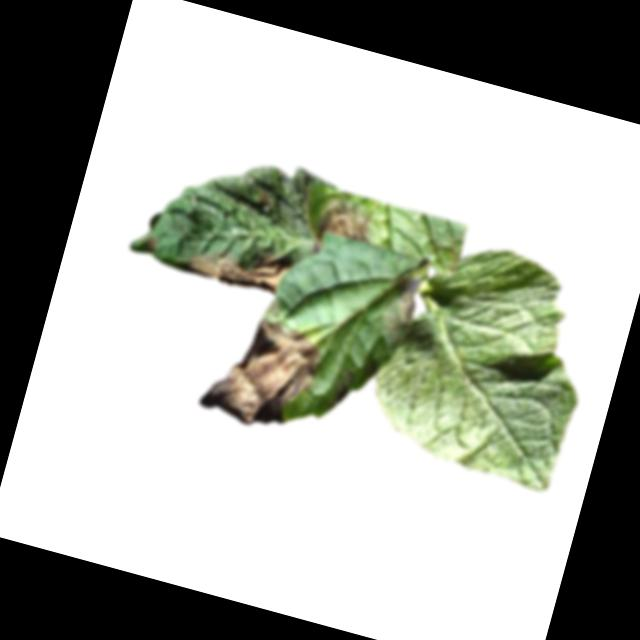Late_blight: (195, 304, 330, 440), (183, 233, 293, 300), (308, 196, 376, 265), (383, 268, 429, 339), (330, 368, 355, 412), (142, 233, 161, 255)
healthy: (358, 227, 613, 496)
